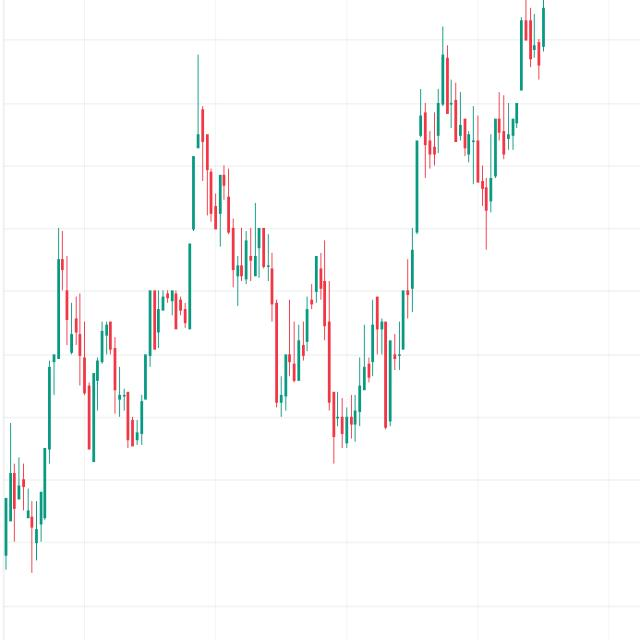Triple-Bottom: (264, 243, 422, 472)
